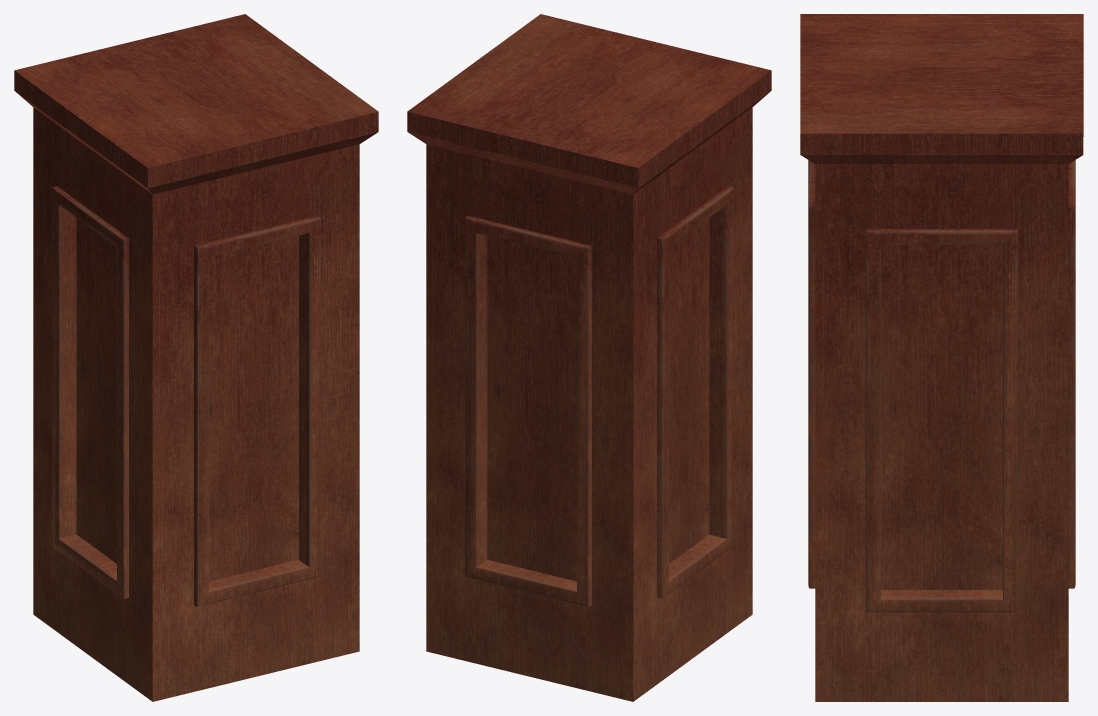
The model's file is Pedestal01.FBX.
3 views of the same model, side by side, from view 1: azimuth 30°, elevation 25°; view 2: azimuth 150°, elevation 25°; view 3: azimuth 270°, elevation 25° (orthographic). The views are drawn at different scales.
Visible parts, largest first — view 1: Pedestal01; view 2: Pedestal01; view 3: Pedestal01.
Boxes of the visible parts, <box> form: Pedestal01: <box>14,14,378,701</box>; Pedestal01: <box>407,14,771,701</box>; Pedestal01: <box>800,14,1083,701</box>.
Size of the model in its own units: 446 by 1000 by 446.
